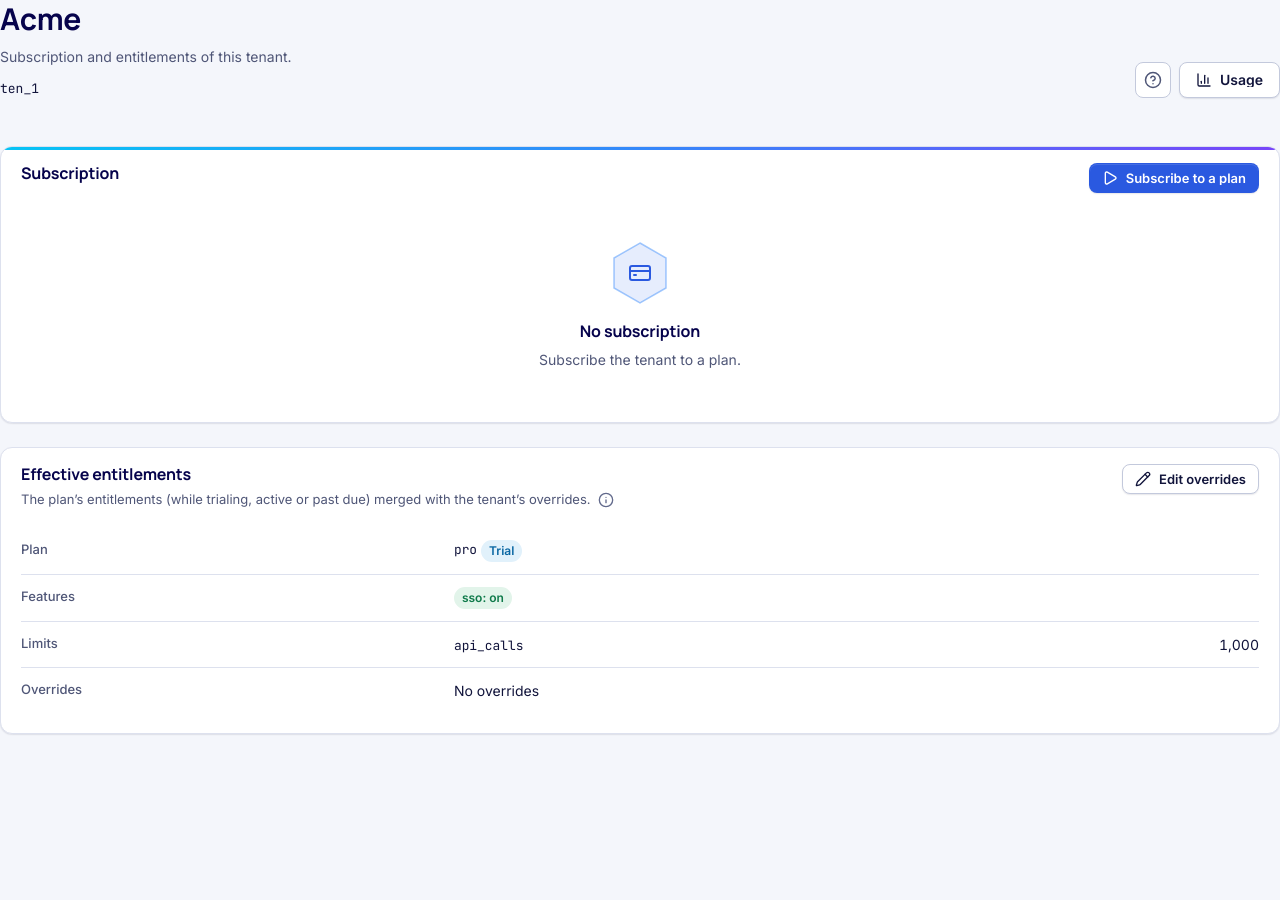
Test: TenantBillingPage › never starts a checkout when live payments are on
Step 1. Click the button "Subscribe to a plan" → (1174, 178), box [1089,163,1259,193]
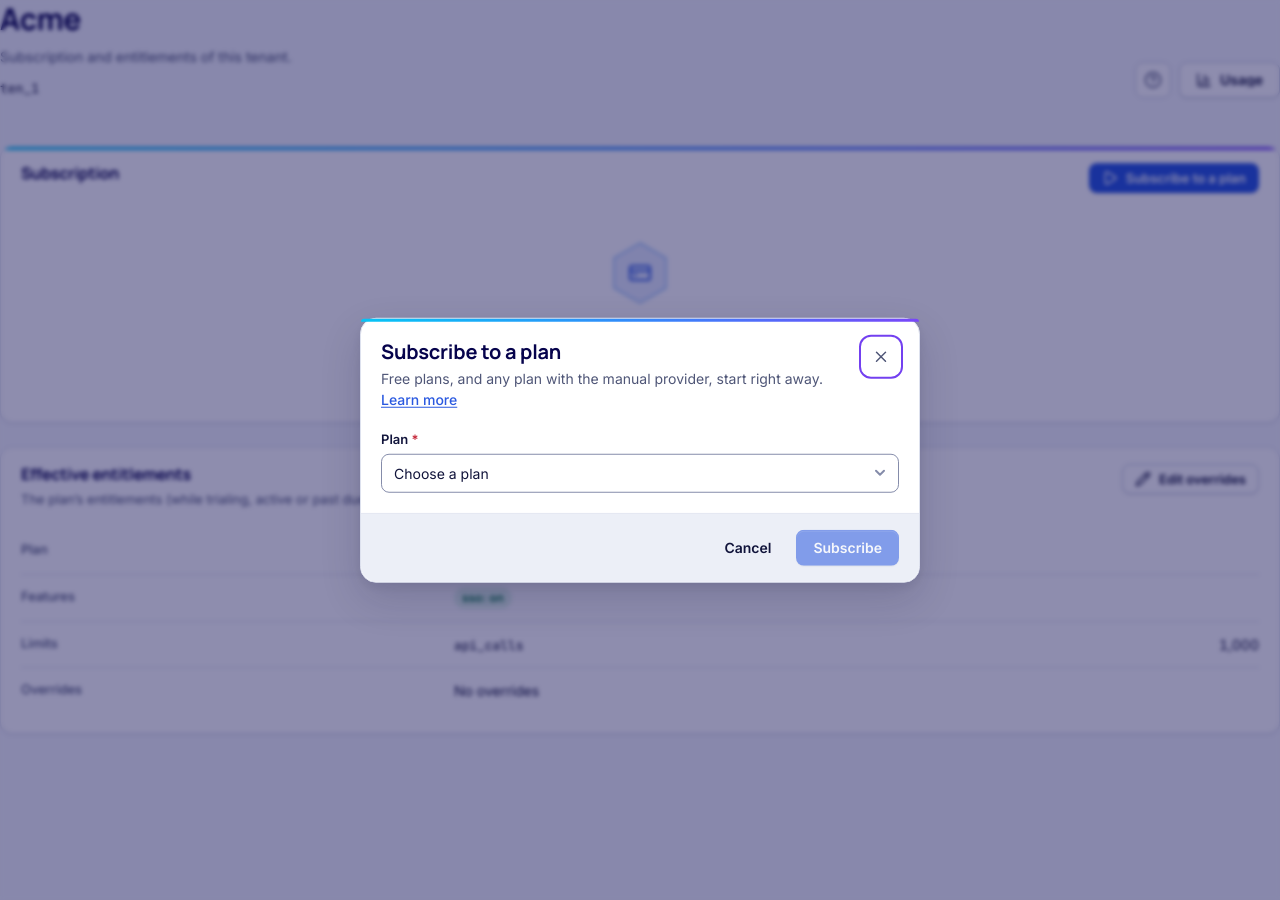
Step 2. Select "Pro (pro)" in the dropdown labelled "Plan *" → (640, 473), box [381,453,899,492]
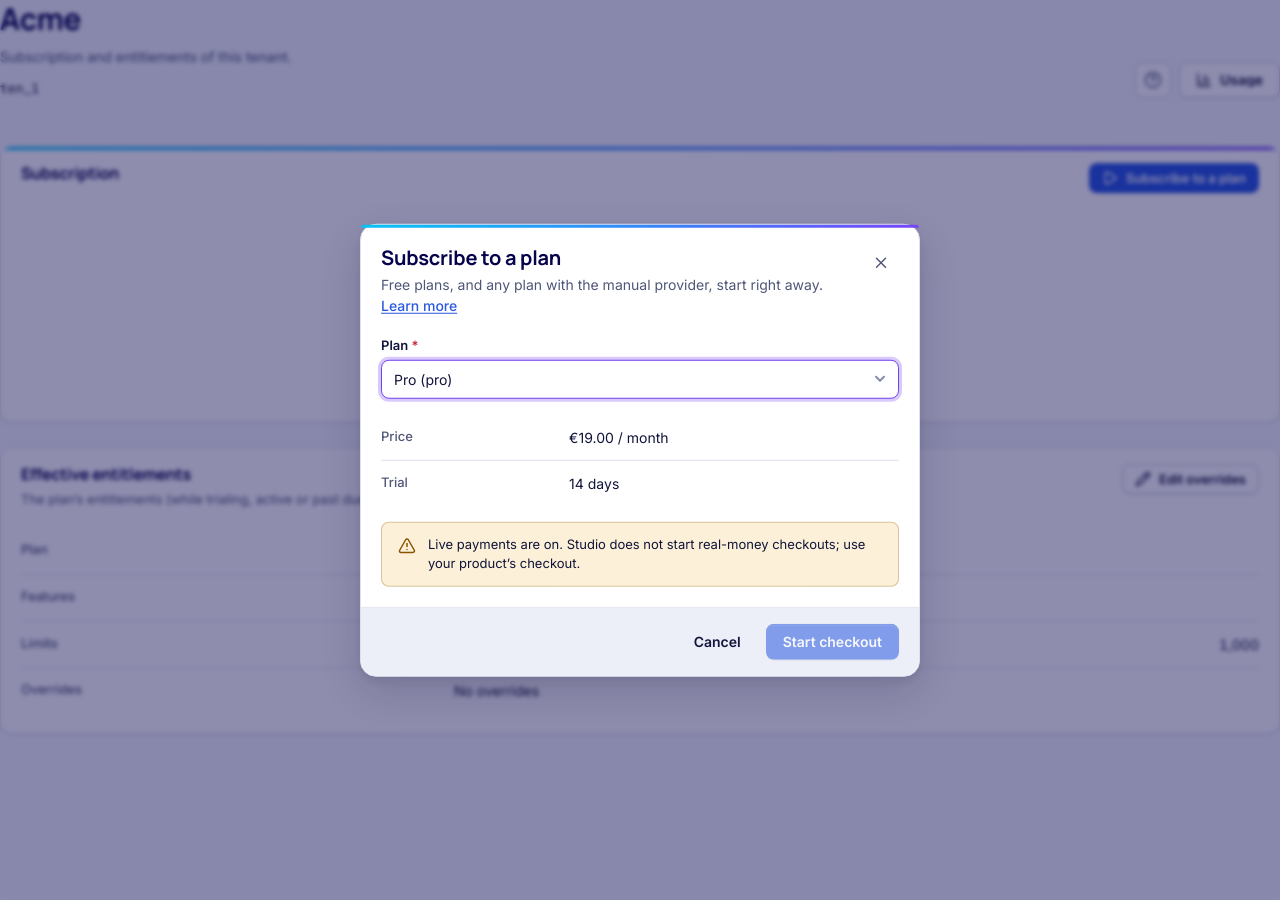
Check: the button "Start checkout" is disabled, box [766,623,899,659]
Check: the text "does not start real-money checkouts" is shown, box [428,535,865,571]
